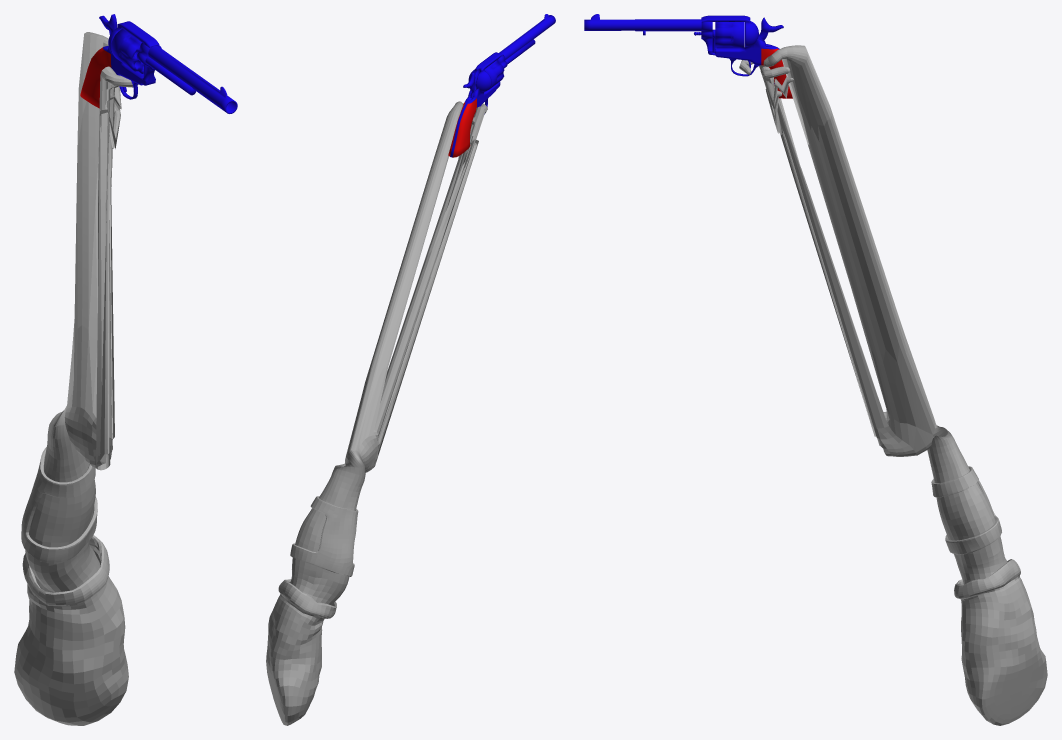
3 views of the same model, side by side, from view 1: azimuth 30°, elevation 25°; view 2: azimuth 150°, elevation 25°; view 3: azimuth 270°, elevation 25° (orthographic). The views are drawn at different scales.
Visible parts, largest first — view 1: GunArmRig2:Forearm, GunArmRig2:Shoulder, GunArmRig2:Bandolier, Cattleman:Frame, Cattleman:Main Barrel, Cattleman:Cylinder, Cattleman:Secondary Barrel; view 2: GunArmRig2:Forearm, GunArmRig2:Shoulder, GunArmRig2:Bandolier, Cattleman:Frame, Cattleman:Main Barrel; view 3: GunArmRig2:Forearm, GunArmRig2:Shoulder, Cattleman:Frame, GunArmRig2:Bandolier, Cattleman:Main Barrel, Cattleman:Cylinder.
Part boxes in pixels (x1,y1,x2,y2): GunArmRig2:Forearm: (25,32,138,592); GunArmRig2:Shoulder: (14,535,128,725); GunArmRig2:Bandolier: (21,447,97,563); Cattleman:Frame: (80,21,158,108); Cattleman:Main Barrel: (148,45,237,113); Cattleman:Cylinder: (111,29,143,73); Cattleman:Secondary Barrel: (145,57,195,95); GunArmRig2:Forearm: (290,101,487,604); GunArmRig2:Shoulder: (266,579,336,725); GunArmRig2:Bandolier: (290,496,358,576); Cattleman:Frame: (448,52,503,157); Cattleman:Main Barrel: (499,14,555,59); GunArmRig2:Forearm: (739,45,1007,584); GunArmRig2:Shoulder: (954,559,1047,725); Cattleman:Frame: (701,15,792,98); GunArmRig2:Bandolier: (931,466,1001,554); Cattleman:Main Barrel: (584,14,701,30); Cattleman:Cylinder: (715,22,744,47).
Bounding box in the file's own units: 33.19 × 159 × 100.
